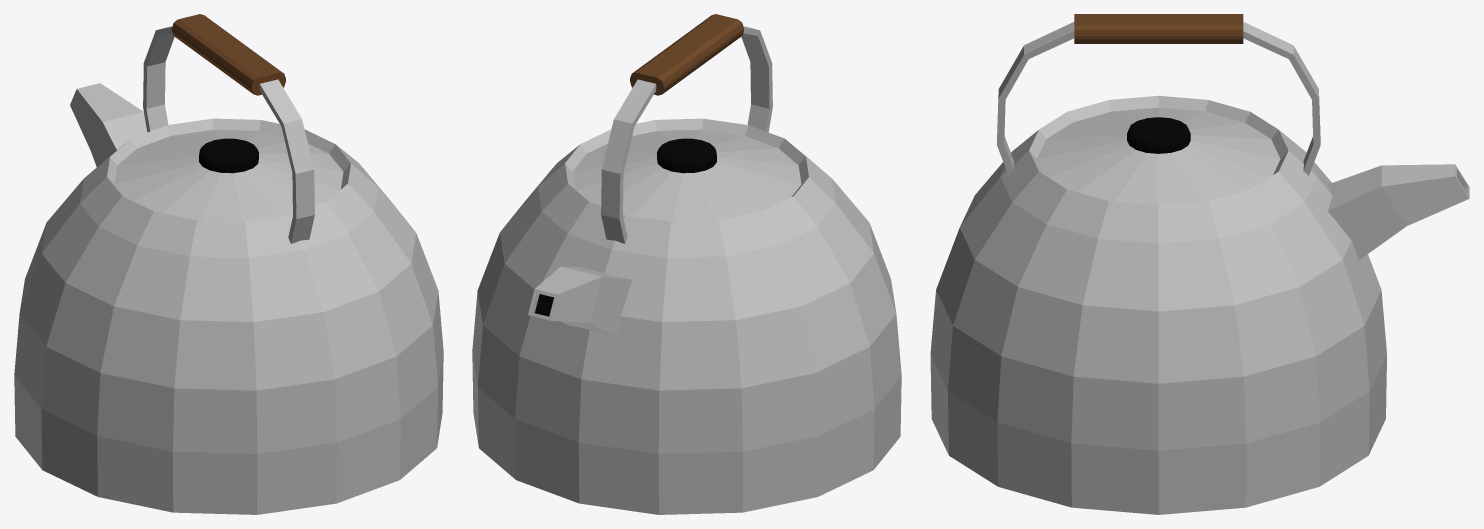
The model's file is Pava.fbx.
The picture shows the model from 3 angles, left to right: view 1: azimuth 30°, elevation 25°; view 2: azimuth 150°, elevation 25°; view 3: azimuth 270°, elevation 25°; orthographic projection. The views are drawn at different scales.
Parts seen in each view (by area): view 1: Pava; view 2: Pava; view 3: Pava.
Part boxes in pixels (<box>): Pava: <box>14,14,443,514</box>; Pava: <box>472,14,901,514</box>; Pava: <box>930,14,1469,514</box>.
Size of the model in its own units: 31.98 by 30.85 by 37.75.
